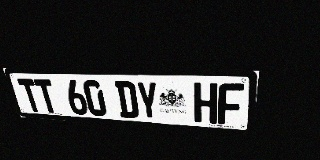0: (82, 80, 107, 116)
6: (63, 80, 89, 115)
D: (114, 81, 139, 119)
F: (217, 83, 244, 125)
H: (194, 82, 218, 124)
T: (33, 79, 59, 113), (17, 79, 43, 112)
Y: (135, 81, 160, 120)
